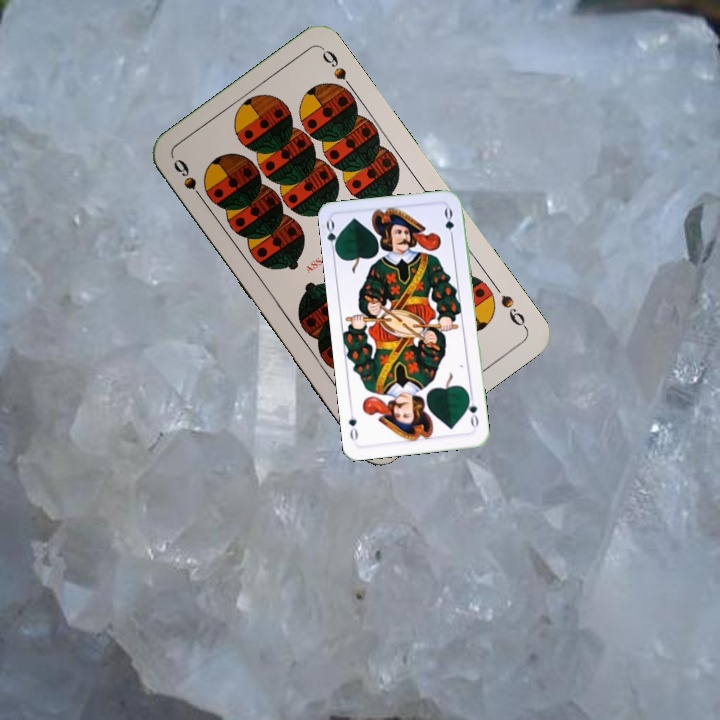GO: (322, 216, 342, 257), (463, 391, 481, 430)
S9: (169, 154, 209, 207), (496, 290, 530, 332)
